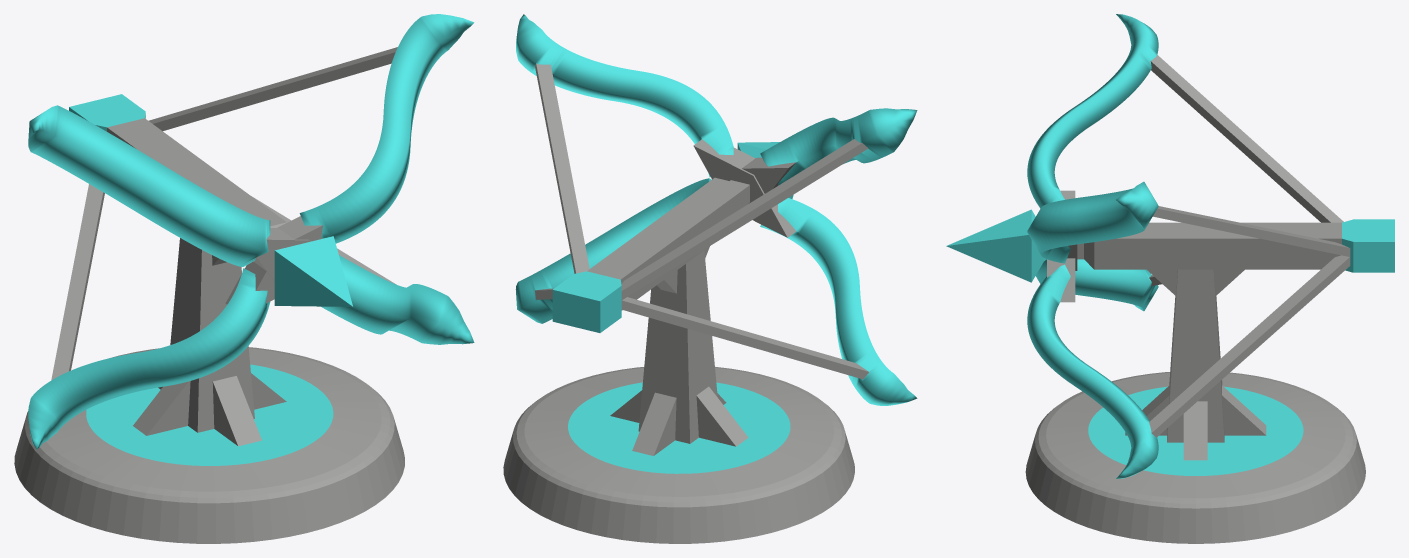
The model's file is ballista_upgraded_ice.fbx.
The picture shows the model from 3 angles, left to right: view 1: azimuth 30°, elevation 25°; view 2: azimuth 150°, elevation 25°; view 3: azimuth 270°, elevation 25°; orthographic projection. The views are drawn at different scales.
Visible parts, largest first — view 1: Circle; view 2: Circle; view 3: Circle.
Part boxes in pixels (x1=…): Circle: x1=14, y1=14, x2=474, y2=543; Circle: x1=503, y1=14, x2=917, y2=543; Circle: x1=946, y1=14, x2=1394, y2=543.
Bounding box in the file's own units: 336 × 312 × 343.
Materials: 1 (1 with a texture image).
